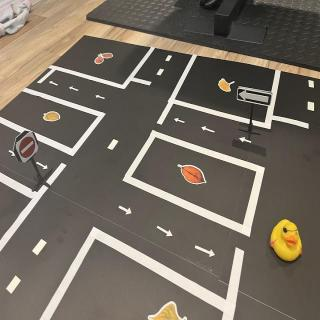duck_specialty: (269, 219, 307, 267)
road_oneway: (196, 243, 218, 261), (156, 224, 176, 240), (118, 205, 134, 217), (201, 125, 217, 135), (37, 161, 49, 173), (239, 135, 253, 145), (175, 117, 187, 127), (8, 149, 18, 159), (95, 94, 107, 102), (70, 86, 80, 94), (50, 81, 60, 88)
sign_noentry: (16, 132, 41, 166)
sign_oneway_left: (238, 89, 274, 108)
